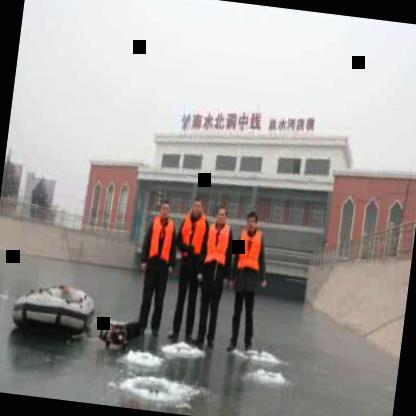head: (188, 191, 205, 222), (243, 208, 260, 233), (212, 204, 228, 228), (158, 197, 173, 222)
